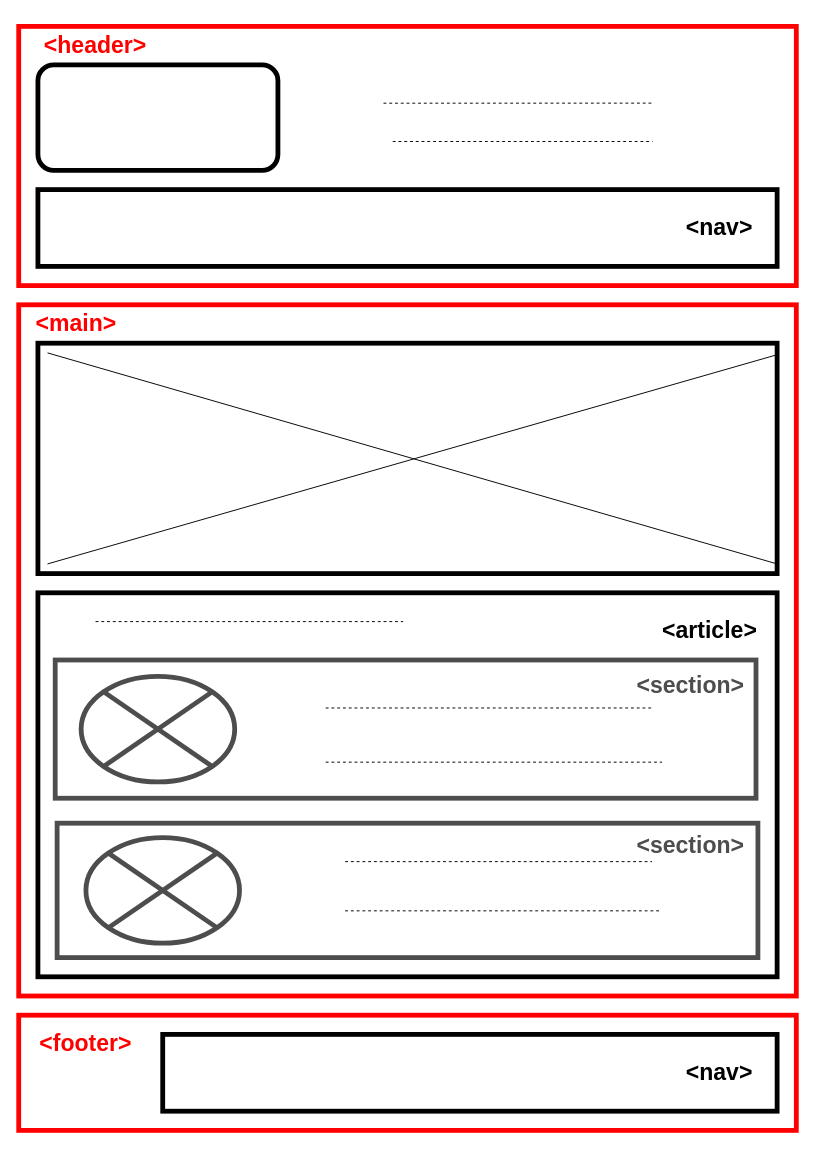
This 815x1149 diagram has some shape labels left out. Here are the shapes that lost their labels. From the top down, the centre of each, then its label:
point (157, 117): LOGO
point (407, 458): <figure>
